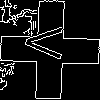V: (25, 25, 72, 61)
